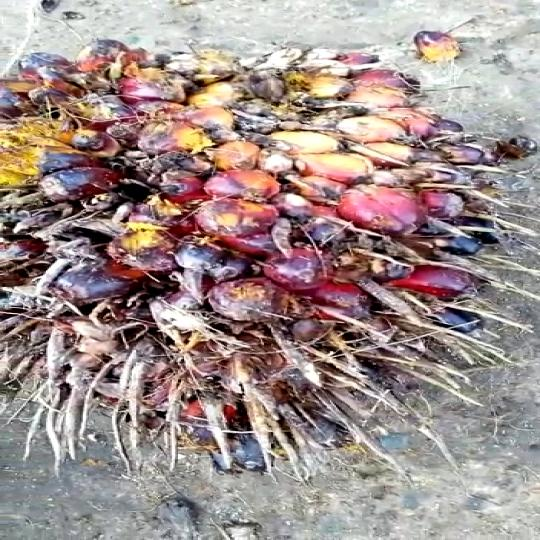terlalu masak: (0, 43, 540, 452)
